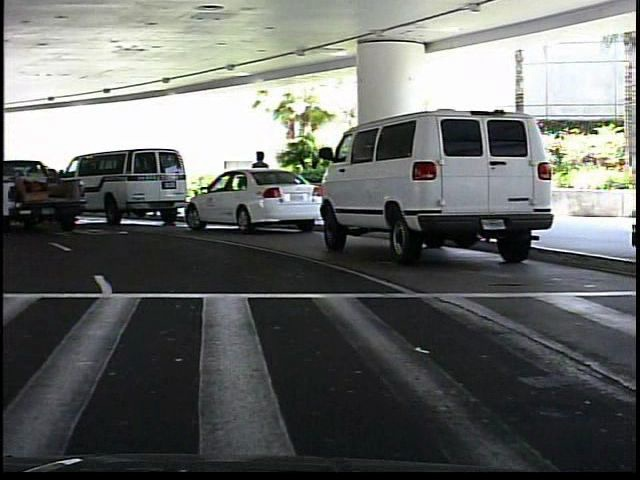person: (249, 145, 277, 219)
